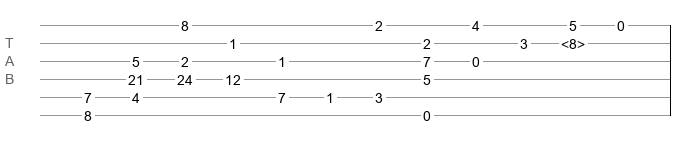0: (423, 108, 431, 118), (472, 54, 480, 64), (617, 18, 625, 28)
1: (229, 36, 237, 46), (278, 54, 286, 64), (326, 90, 334, 100)
12: (225, 72, 241, 82)
2: (181, 54, 189, 64), (375, 18, 383, 28), (423, 36, 431, 46)
21: (128, 72, 144, 82)
24: (177, 72, 193, 82)
3: (375, 90, 383, 100), (520, 36, 528, 46)
4: (132, 90, 140, 100), (472, 18, 480, 28)
5: (132, 54, 140, 64), (423, 72, 431, 82), (569, 18, 577, 28)
7: (84, 90, 92, 100), (278, 90, 286, 100), (423, 54, 431, 64)
8: (84, 108, 92, 118), (181, 18, 189, 28)
harmonic: (561, 36, 585, 46)
